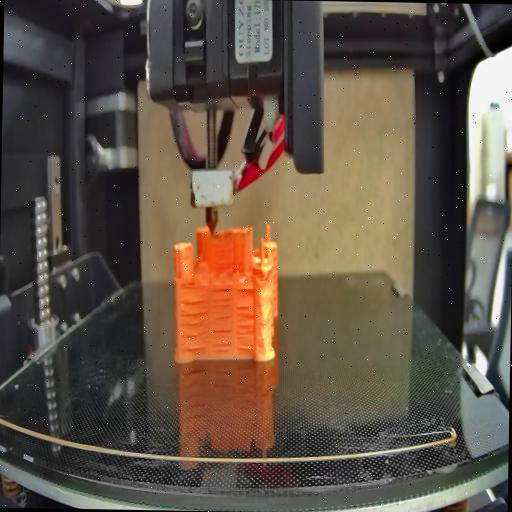cracks: (178, 300, 207, 353), (236, 304, 256, 352), (210, 288, 234, 327), (212, 328, 234, 356), (214, 260, 234, 273), (184, 277, 200, 288), (236, 288, 254, 294)
